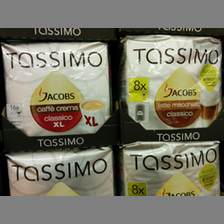coffee: (1, 41, 110, 136), (120, 36, 223, 130), (115, 140, 222, 194), (4, 147, 115, 194)
